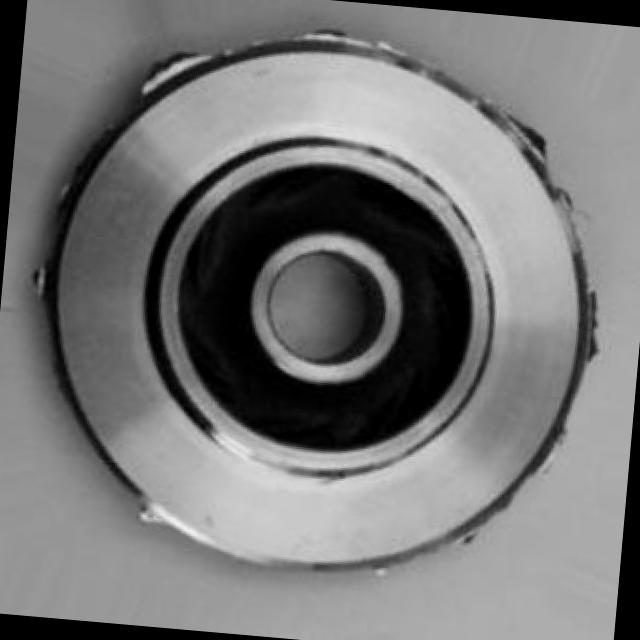Defect: (137, 49, 212, 89)
